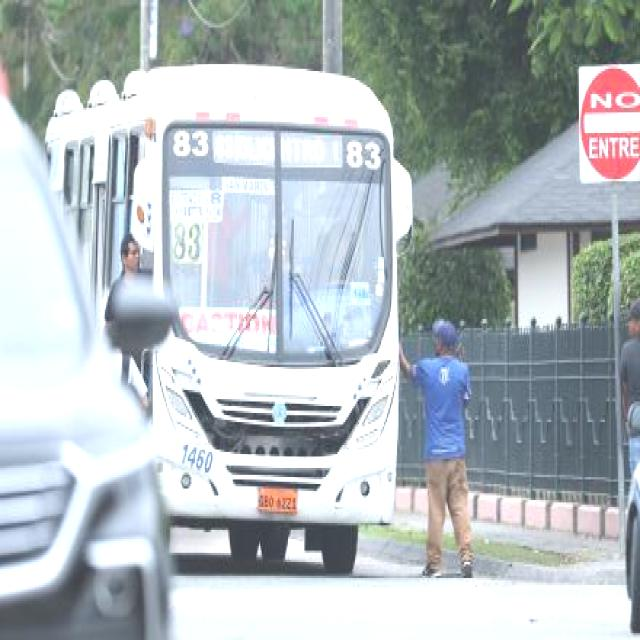BUS: (39, 70, 420, 581)
